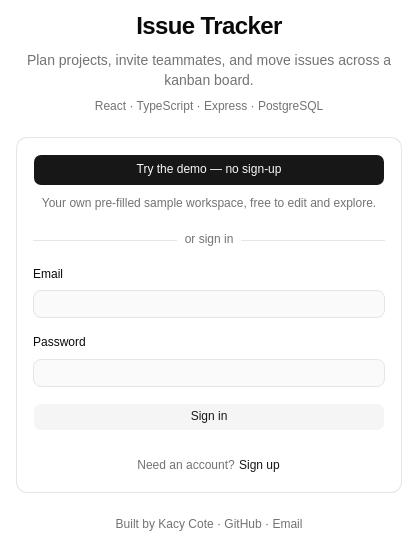
locks every button while the demo sets up, so a double-click makes one guest
Double-click the button "Try the demo — no sign-up": (209, 170) [33,154,385,186]
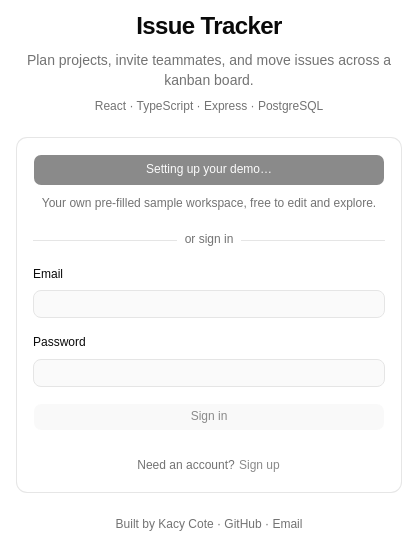
Check: the button named "try the demo" is disabled, box [33,154,385,186]
Check: the button "Sign in" is disabled, box [33,402,385,430]
Check: the button "Sign up" is disabled, box [238,454,281,476]
